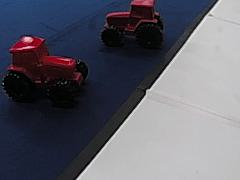Tracktor: (0, 32, 89, 103), (99, 0, 165, 49)
